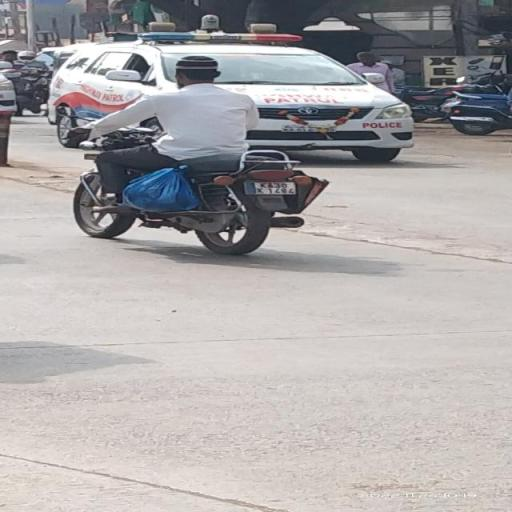bike: (66, 54, 331, 256)
numberplate: (249, 180, 301, 195)
withouthelmet: (176, 56, 219, 82)
